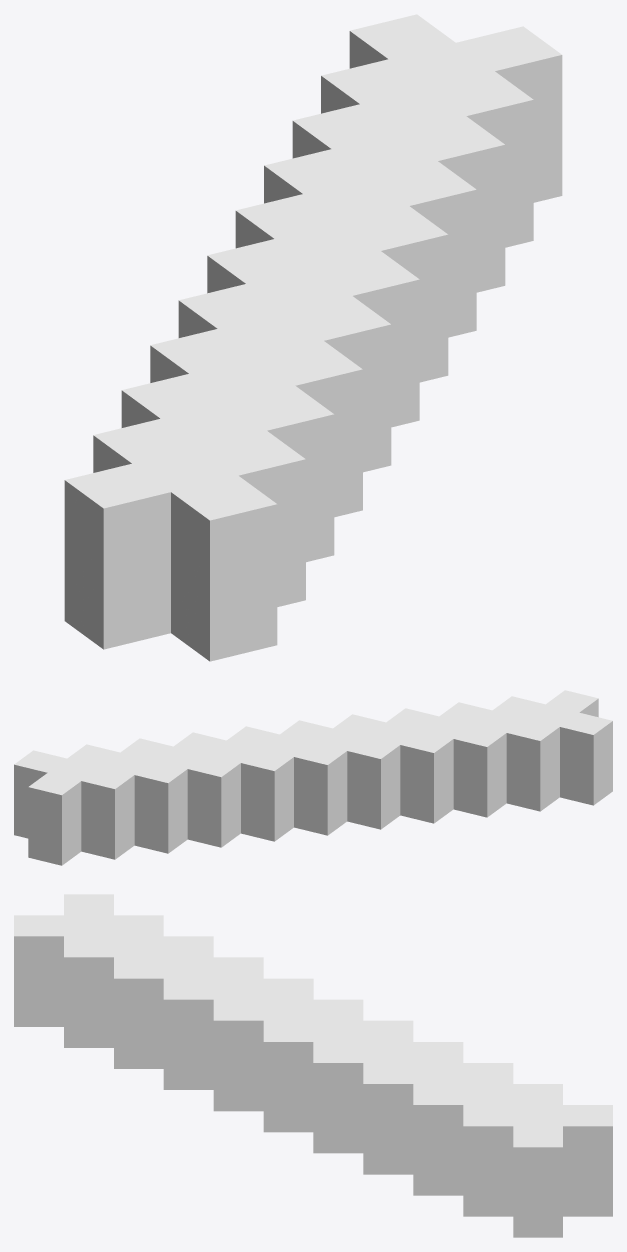
The model's file is connector_2d.obj.
3 views of the same model, one above another, from view 1: azimuth 30°, elevation 25°; view 2: azimuth 150°, elevation 25°; view 3: azimuth 270°, elevation 25° (orthographic). The views are drawn at different scales.
Size of the model in its own units: 2.4 by 0.4 by 2.4.
Materials: 1 (1 with a texture image).
